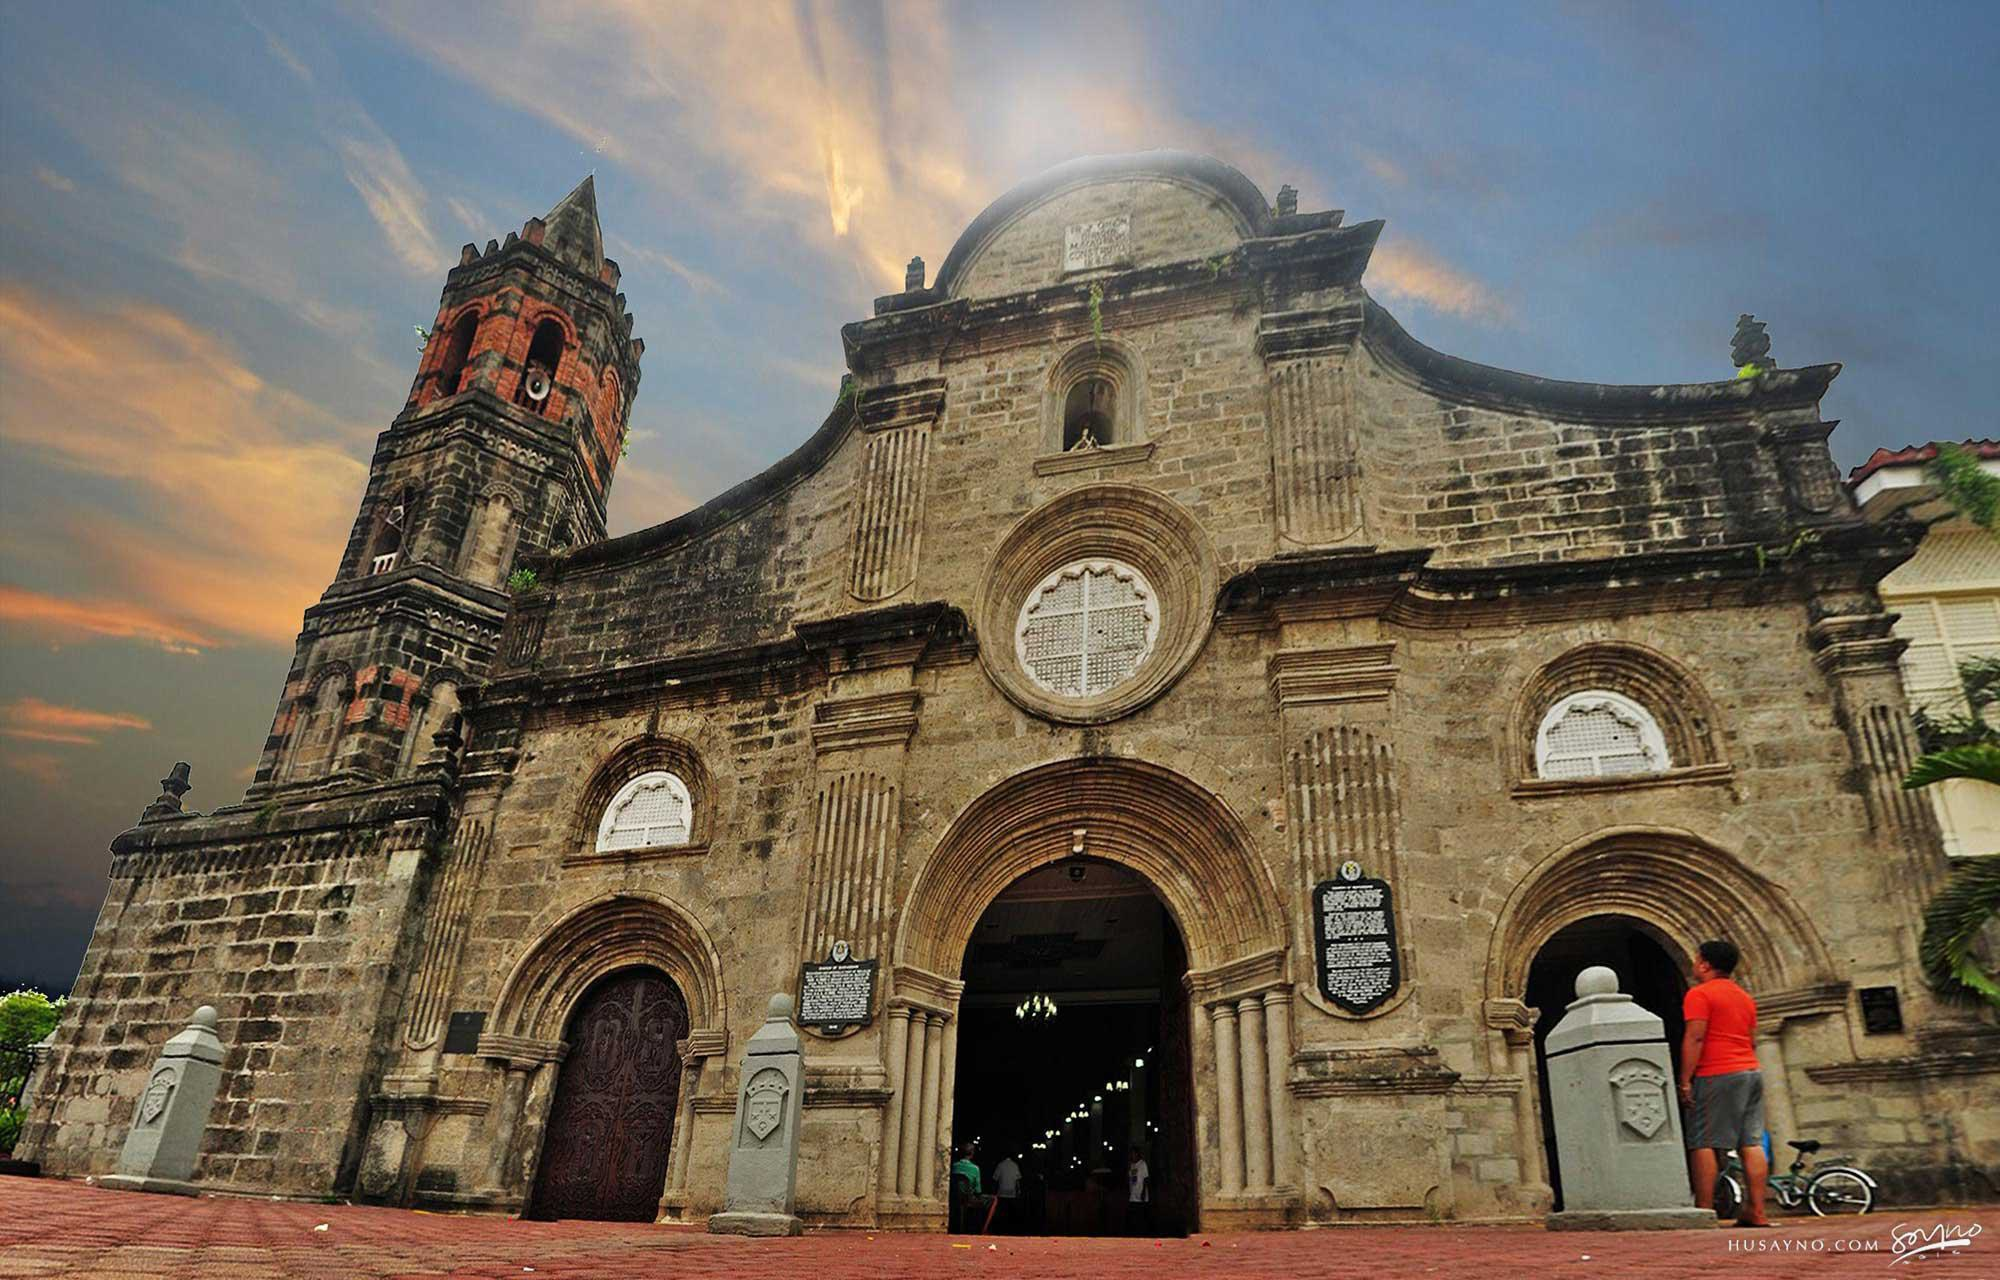barasoain_church_malolos_bulacan: (50, 146, 1920, 1203)
